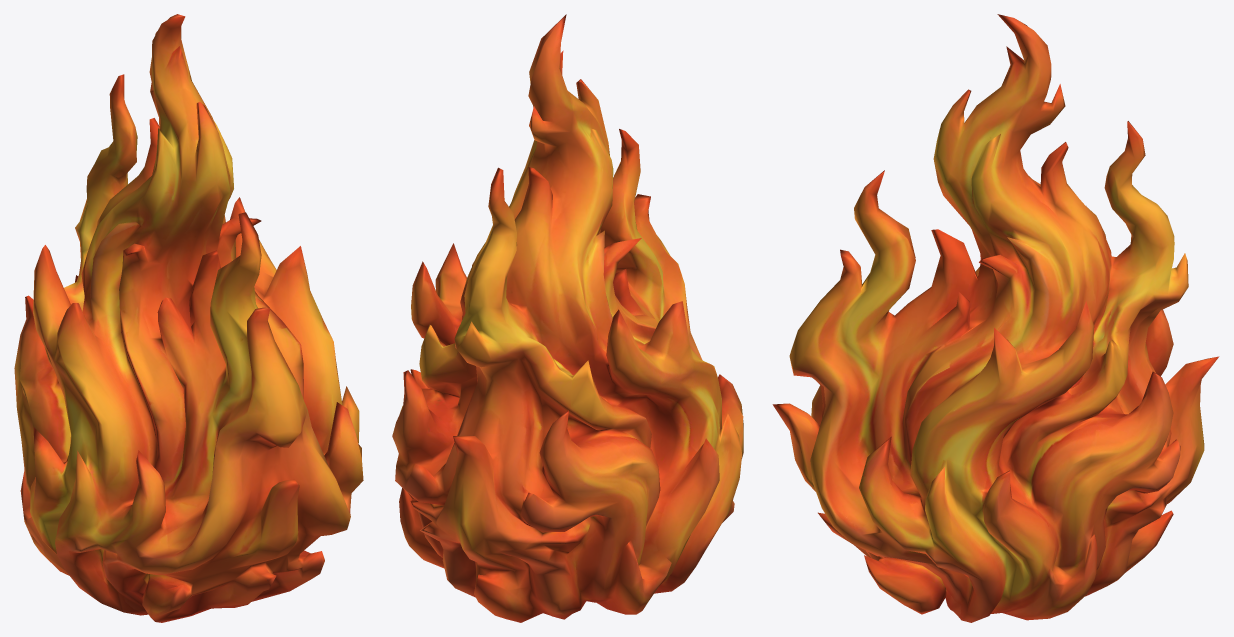
File: flame.glb
3 views of the same model, side by side, from view 1: azimuth 30°, elevation 25°; view 2: azimuth 150°, elevation 25°; view 3: azimuth 270°, elevation 25° (orthographic).
Visible parts, largest first — view 1: tripo_node_70f1d07b-fa26-46a9-86aa-5c3edbecad48; view 2: tripo_node_70f1d07b-fa26-46a9-86aa-5c3edbecad48; view 3: tripo_node_70f1d07b-fa26-46a9-86aa-5c3edbecad48.
Part boxes in pixels (x1,y1,x2,y2): tripo_node_70f1d07b-fa26-46a9-86aa-5c3edbecad48: [14, 14, 363, 622]; tripo_node_70f1d07b-fa26-46a9-86aa-5c3edbecad48: [392, 14, 743, 622]; tripo_node_70f1d07b-fa26-46a9-86aa-5c3edbecad48: [772, 14, 1219, 622].
Bounding box in the file's own units: 0.5457 × 0.9837 × 0.692.
1 material, 1 textured.
